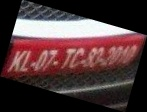character: (7, 50, 26, 72), (59, 47, 75, 70), (42, 49, 57, 72), (99, 45, 114, 68), (120, 45, 136, 66), (69, 47, 84, 69), (90, 45, 103, 69), (33, 49, 47, 71), (82, 47, 96, 69), (18, 50, 31, 72), (108, 46, 122, 66), (115, 46, 129, 66)
